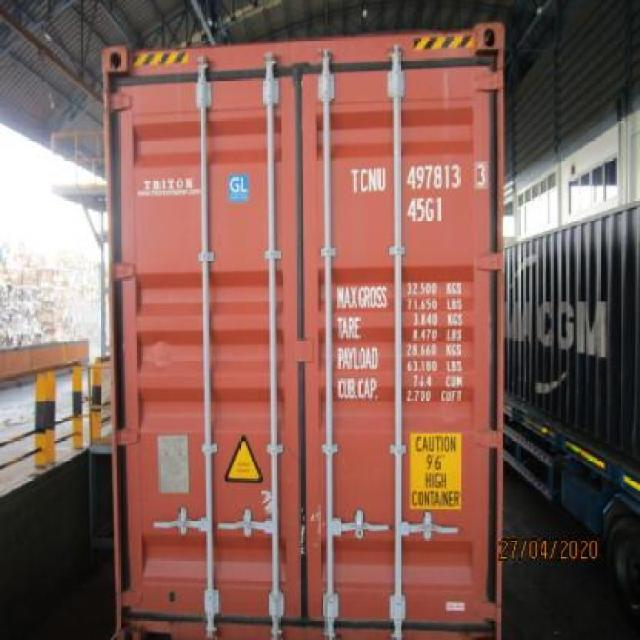ISO: (407, 197, 444, 222)
container_number: (350, 161, 494, 191)
